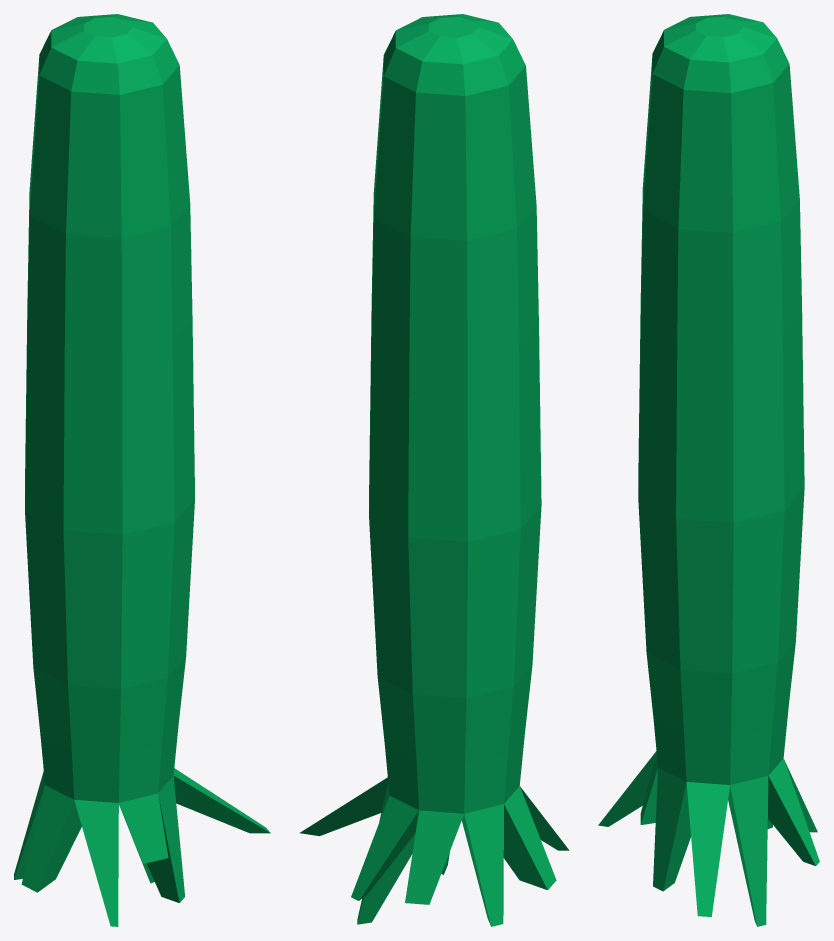
Rendered from SeguaroCactusMedium2_LOD0.fbx.
The picture shows the model from 3 angles, left to right: view 1: azimuth 30°, elevation 25°; view 2: azimuth 150°, elevation 25°; view 3: azimuth 270°, elevation 25°; orthographic projection. The views are drawn at different scales.
Parts seen in each view (by area): view 1: SeguaroCactusMedium2_LOD0; view 2: SeguaroCactusMedium2_LOD0; view 3: SeguaroCactusMedium2_LOD0.
Boxes of the visible parts, <box> form: SeguaroCactusMedium2_LOD0: <box>14,14,270,926</box>; SeguaroCactusMedium2_LOD0: <box>300,14,569,926</box>; SeguaroCactusMedium2_LOD0: <box>598,14,819,926</box>.
Bounding box in the file's own units: 71 × 305 × 88.4.
